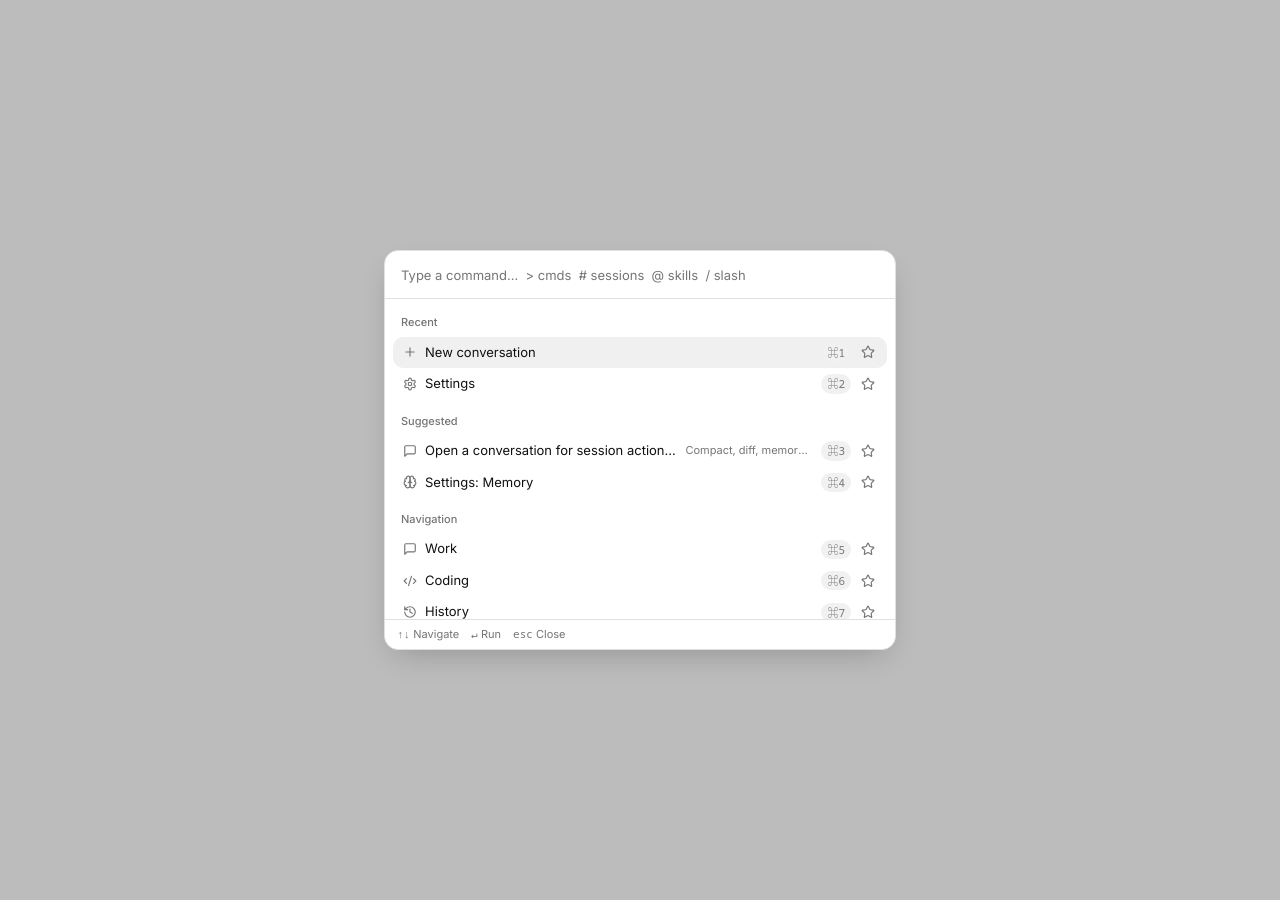
Scenario: GlobalCommandPalette actions and sessions › filters commands by search
Type "settings" into the dropdown with test id "global-command-palette-input".
click(640, 275); type("settings")  # box x1=385 y1=251 x2=895 y2=299
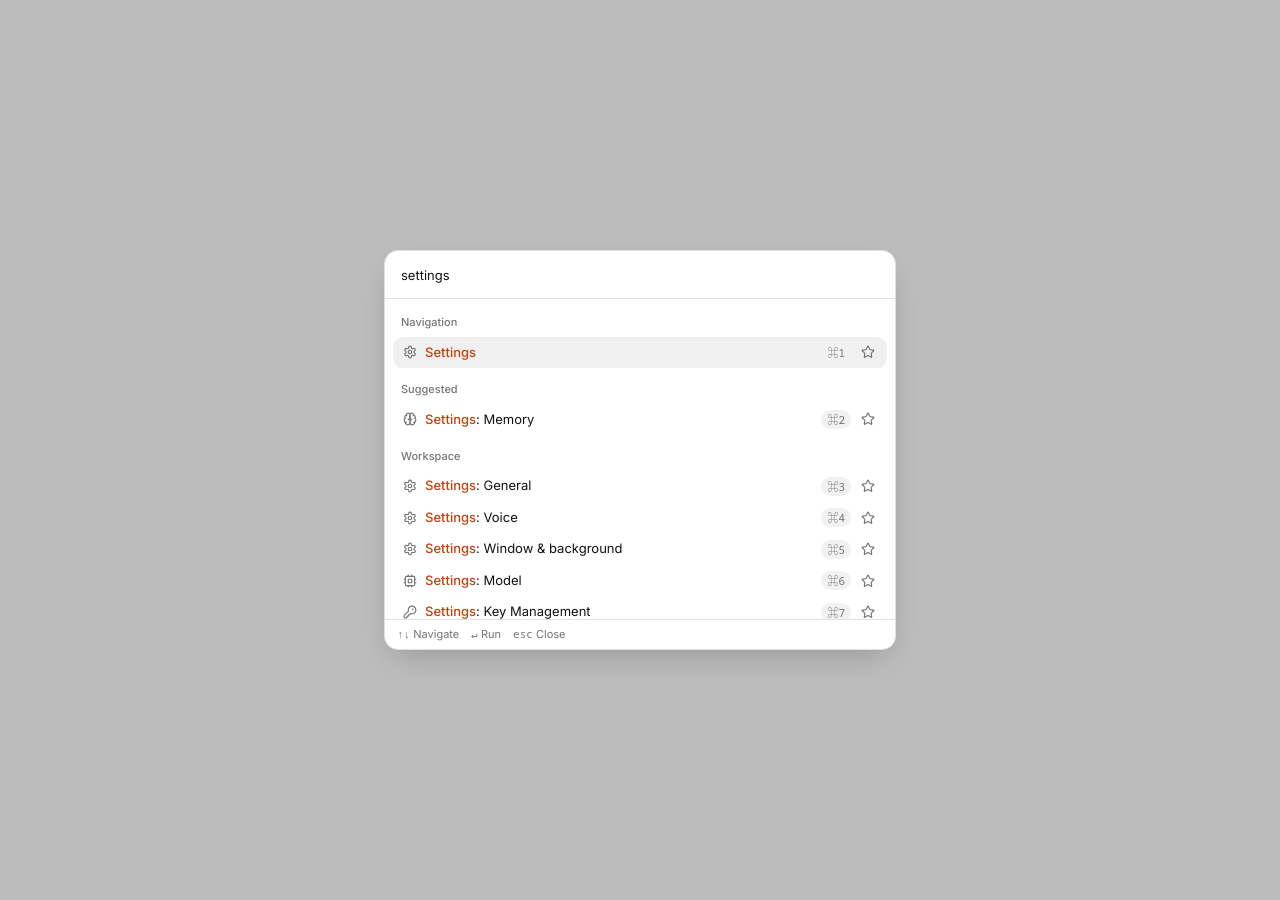
expect the option with test id "global-cmd-nav-settings" is shown: met, box x1=393 y1=337 x2=887 y2=368
